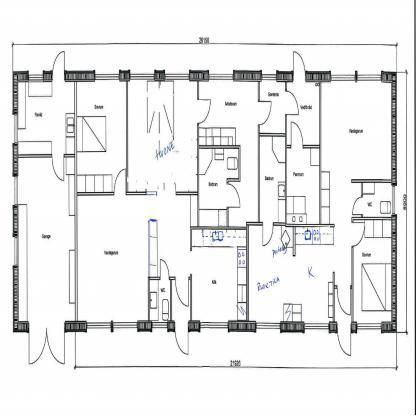door: (27, 320, 68, 368), (335, 318, 353, 358), (335, 282, 353, 318), (50, 49, 68, 85), (174, 274, 191, 310), (174, 318, 190, 356), (50, 152, 67, 186), (293, 49, 308, 87), (256, 98, 273, 130), (112, 167, 128, 200), (284, 88, 300, 121), (289, 120, 304, 154), (226, 182, 242, 212), (195, 97, 212, 125), (260, 220, 276, 248), (350, 222, 366, 250), (352, 196, 367, 221), (158, 258, 170, 283)
window: (83, 318, 142, 338), (328, 68, 385, 84), (198, 315, 232, 338), (204, 65, 235, 88), (355, 318, 384, 338), (162, 68, 193, 86), (91, 68, 121, 86), (303, 316, 330, 336), (252, 319, 282, 336), (127, 67, 156, 84), (10, 231, 22, 270), (259, 67, 281, 87), (26, 69, 46, 88), (11, 111, 22, 144), (151, 317, 170, 336), (11, 173, 20, 206), (390, 182, 398, 216)
